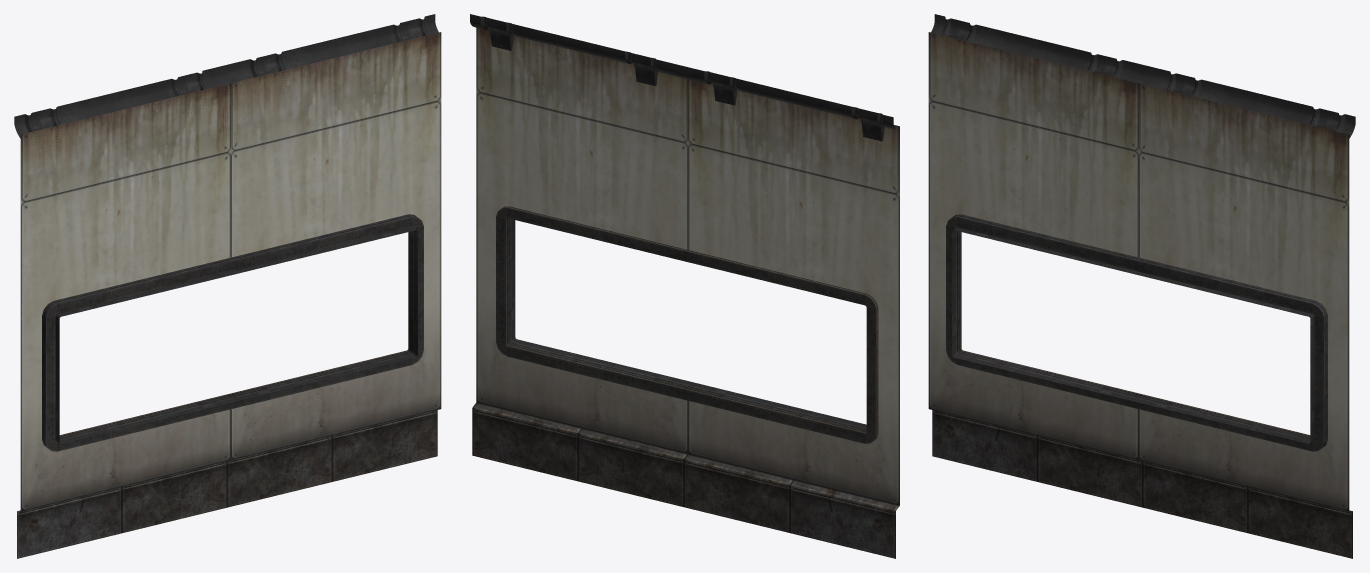
File: lab_window_large_noglass.dae
3 views of the same model, side by side, from view 1: azimuth 30°, elevation 25°; view 2: azimuth 150°, elevation 25°; view 3: azimuth 330°, elevation 25° (orthographic).
Parts seen in each view (by area): view 1: lab_window_large; view 2: lab_window_large; view 3: lab_window_large.
Part boxes in pixels (x1,y1,x2,y2): lab_window_large: [14, 14, 441, 558]; lab_window_large: [470, 14, 899, 558]; lab_window_large: [928, 14, 1355, 558].
Bounding box in the file's own units: 4 × 4 × 0.2276.
